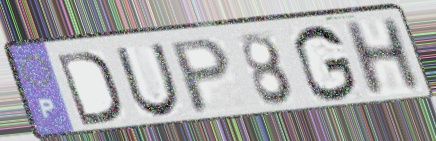8: (239, 32, 296, 108)
D: (53, 48, 124, 128)
G: (290, 22, 360, 104)
H: (339, 15, 426, 100)
P: (168, 35, 234, 117)
U: (112, 41, 183, 120)
